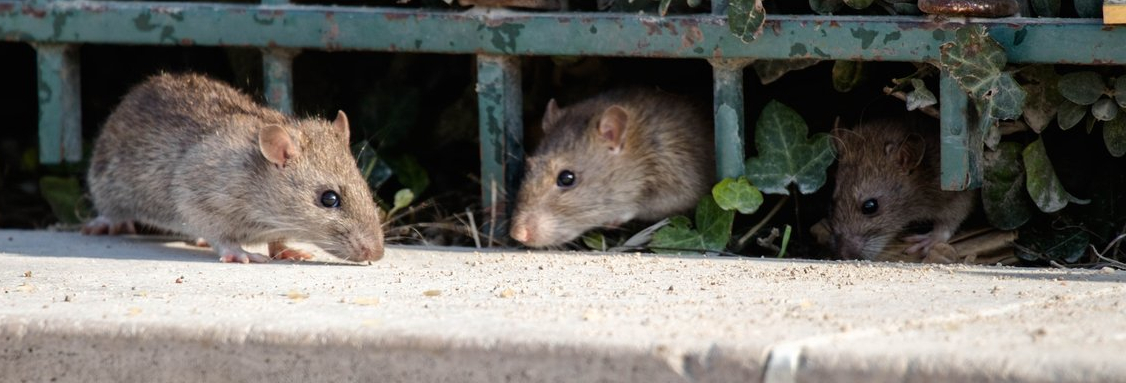rat: (74, 56, 394, 270), (812, 79, 1067, 276), (488, 70, 727, 255)
